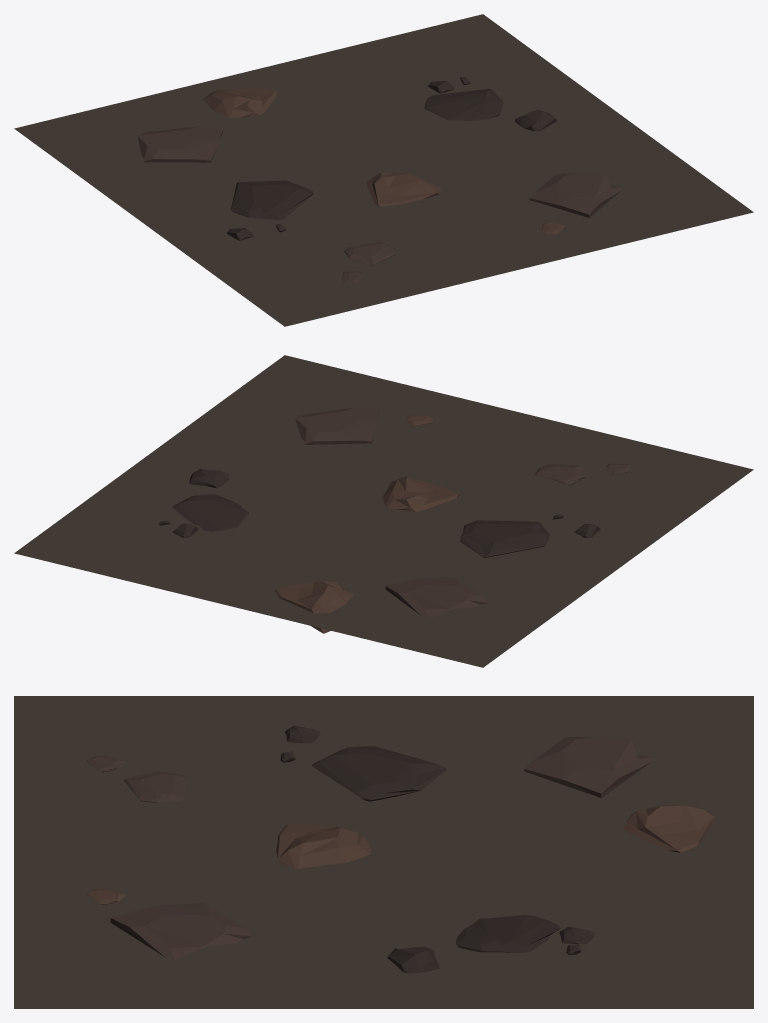
The model's file is Floor1.glb.
3 views of the same model, one above another, from view 1: azimuth 30°, elevation 25°; view 2: azimuth 150°, elevation 25°; view 3: azimuth 270°, elevation 25° (orthographic). The views are drawn at different scales.
Visible parts, largest first — view 1: world; view 2: world; view 3: world.
Part boxes in pixels (left/top/right/bottom): world: left=14, top=14, right=753, bottom=326; world: left=14, top=355, right=753, bottom=667; world: left=14, top=696, right=753, bottom=1008.
Size of the model in its own units: 600 by 33.01 by 600.
